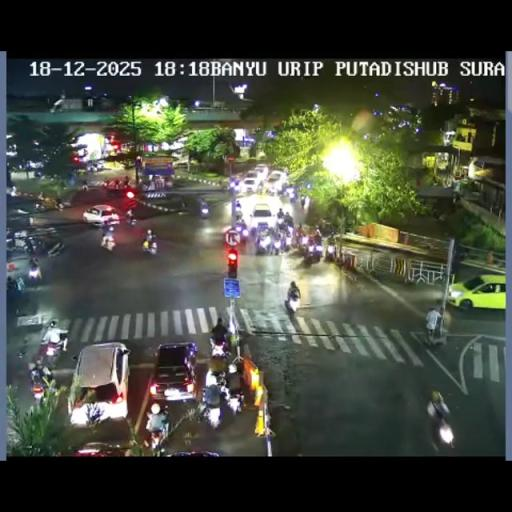Car: (68, 342, 130, 424), (148, 342, 198, 402), (447, 274, 506, 310), (67, 441, 134, 456), (82, 205, 120, 226), (250, 203, 274, 230), (265, 170, 286, 192), (241, 176, 261, 193), (253, 165, 269, 179)
Motorcycle: (199, 382, 224, 428), (37, 330, 68, 364), (430, 414, 456, 451), (28, 370, 49, 404), (146, 422, 168, 454), (423, 320, 444, 348), (209, 330, 230, 354), (226, 388, 244, 415), (304, 238, 324, 262), (6, 277, 22, 306), (284, 288, 299, 317), (254, 230, 272, 254), (27, 262, 42, 286), (142, 235, 158, 255), (46, 240, 64, 257), (233, 220, 247, 241), (317, 218, 334, 235), (100, 232, 115, 250), (205, 368, 218, 387), (276, 231, 287, 253), (218, 382, 230, 401), (457, 246, 470, 262), (25, 236, 36, 254), (6, 232, 17, 250), (124, 212, 138, 226), (326, 241, 336, 260), (290, 230, 301, 247), (200, 201, 210, 217), (283, 218, 294, 231), (233, 180, 243, 194), (164, 175, 174, 189), (234, 210, 244, 223), (250, 222, 258, 238), (219, 181, 230, 192), (34, 200, 46, 210), (54, 200, 65, 210), (288, 190, 296, 203), (86, 162, 96, 172), (301, 234, 309, 246), (277, 208, 284, 220), (123, 175, 130, 187), (102, 178, 110, 188), (34, 169, 42, 178), (300, 194, 306, 205), (235, 199, 241, 210), (114, 179, 120, 188), (82, 184, 89, 191), (38, 191, 43, 200)
